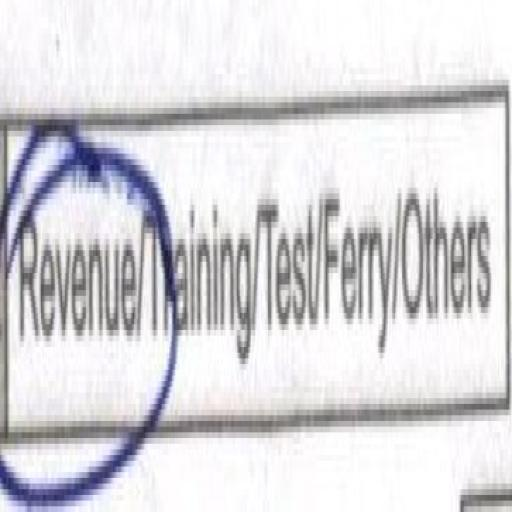check: (0, 0, 144, 506)
